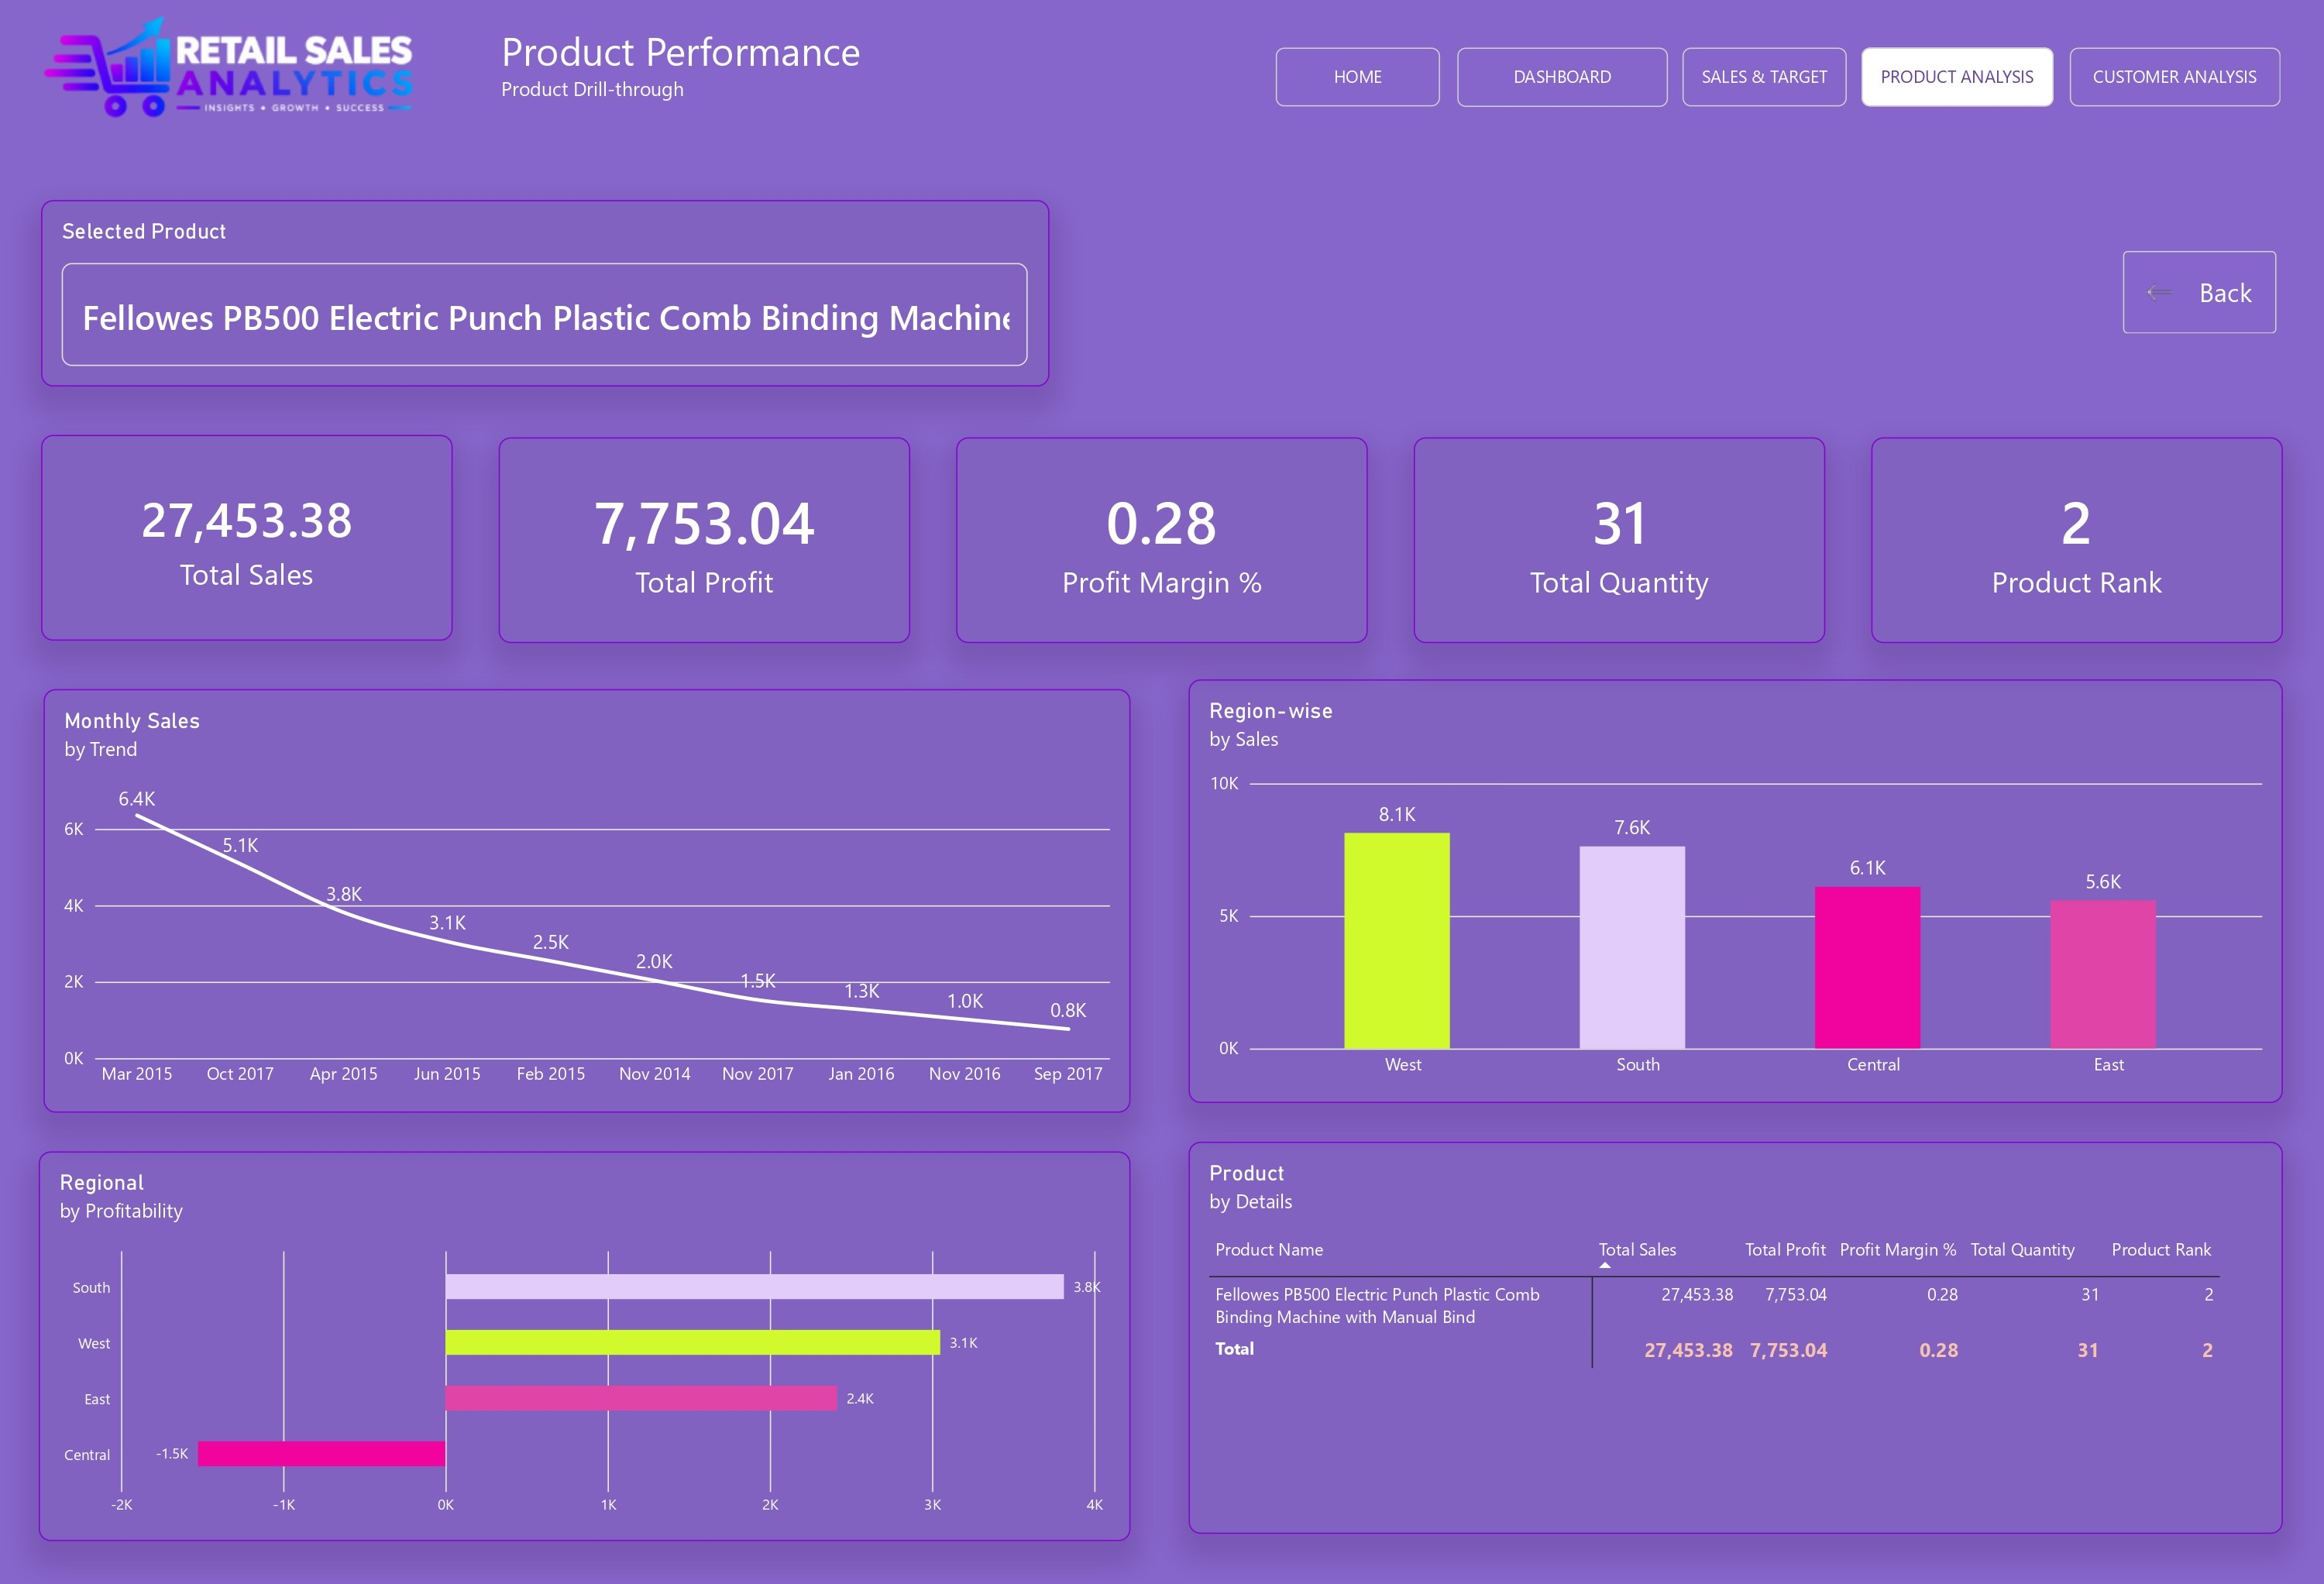

What the dashboard file says about the page in this screenshot:
{"tool":"powerbi","page":{"name":"Product Performance","canvas":[1920,1500],"ordinal":5},"visuals":[{"type":"textbox","box":[414.3,25.7,318.6,75.7],"z":0},{"type":"card","fields":{"Values":["FactSales.Total Sales"]},"box":[34,366,340,170],"z":1000},{"type":"card","fields":{"Values":["FactSales.Total Profit"]},"box":[412.2,367.3,340,170],"z":2000},{"type":"card","fields":{"Values":["FactSales.Profit Margin %"]},"box":[790.3,367.3,340,170],"z":3000},{"type":"card","fields":{"Values":["FactSales.Total Quantity"]},"box":[1168.5,367.3,340,170],"z":4000},{"type":"card","fields":{"Values":["FactSales.Product Rank"]},"box":[1546.7,367.3,340,170],"z":5000},{"type":"lineChart","title":"Monthly Sales ","fields":{"Category":["DimDate.Month Year"],"Y":["FactSales.Total Sales"]},"box":[36,575.2,898,350],"z":6000},{"type":"columnChart","title":"Region-wise ","fields":{"Category":["FactSales.Region"],"Y":["FactSales.Total Sales"]},"box":[982,567.2,904,350],"z":7000},{"type":"barChart","title":"Regional ","fields":{"Category":["FactSales.Region"],"Y":["FactSales.Total Profit"]},"box":[32,957.2,902,322],"z":8000},{"type":"pivotTable","title":"Product ","fields":{"Rows":["FactSales.Product Name"],"Values":["FactSales.Total Sales","FactSales.Total Profit","FactSales.Profit Margin %","FactSales.Total Quantity","FactSales.Product Rank"]},"box":[982,949.2,904,324],"z":9000},{"type":"actionButton","box":[1753.3,213.3,126.7,68.3],"z":10000},{"type":"cardVisual","title":"Selected Product","fields":{"Data":["Min(FactSales.Product Name)"]},"box":[34.3,172.9,832.9,154.3],"z":11000},{"type":"actionButton","box":[1054.6,45.7,135.7,48.6],"z":12000},{"type":"actionButton","box":[1389.7,45.7,135.7,48.6],"z":13000},{"type":"actionButton","box":[1538,45.7,158.6,48.6],"z":14000},{"type":"actionButton","box":[1709.2,45.7,174.3,48.6],"z":15000},{"type":"actionButton","box":[1203,46,174,49],"z":16000},{"type":"image","box":[32.9,5.7,315.7,110],"z":16001}]}

Visuals, with their boxes on the page's 1920x1500 design canvas (x1, y1, x2, y2). These are canvas units, not pixel positions in the 2324x1584 screenshot, which may show the page scaled, cropped or inside an application window:
textbox: (x1=414, y1=26, x2=733, y2=101)
card - FactSales.Total Sales: (x1=34, y1=366, x2=374, y2=536)
card - FactSales.Total Profit: (x1=412, y1=367, x2=752, y2=537)
card - FactSales.Profit Margin %: (x1=790, y1=367, x2=1130, y2=537)
card - FactSales.Total Quantity: (x1=1168, y1=367, x2=1508, y2=537)
card - FactSales.Product Rank: (x1=1547, y1=367, x2=1887, y2=537)
"Monthly Sales " lineChart: (x1=36, y1=575, x2=934, y2=925)
"Region-wise " columnChart: (x1=982, y1=567, x2=1886, y2=917)
"Regional " barChart: (x1=32, y1=957, x2=934, y2=1279)
"Product " pivotTable: (x1=982, y1=949, x2=1886, y2=1273)
actionButton: (x1=1753, y1=213, x2=1880, y2=282)
"Selected Product" cardVisual: (x1=34, y1=173, x2=867, y2=327)
actionButton: (x1=1055, y1=46, x2=1190, y2=94)
actionButton: (x1=1390, y1=46, x2=1525, y2=94)
actionButton: (x1=1538, y1=46, x2=1697, y2=94)
actionButton: (x1=1709, y1=46, x2=1884, y2=94)
actionButton: (x1=1203, y1=46, x2=1377, y2=95)
image: (x1=33, y1=6, x2=349, y2=116)
